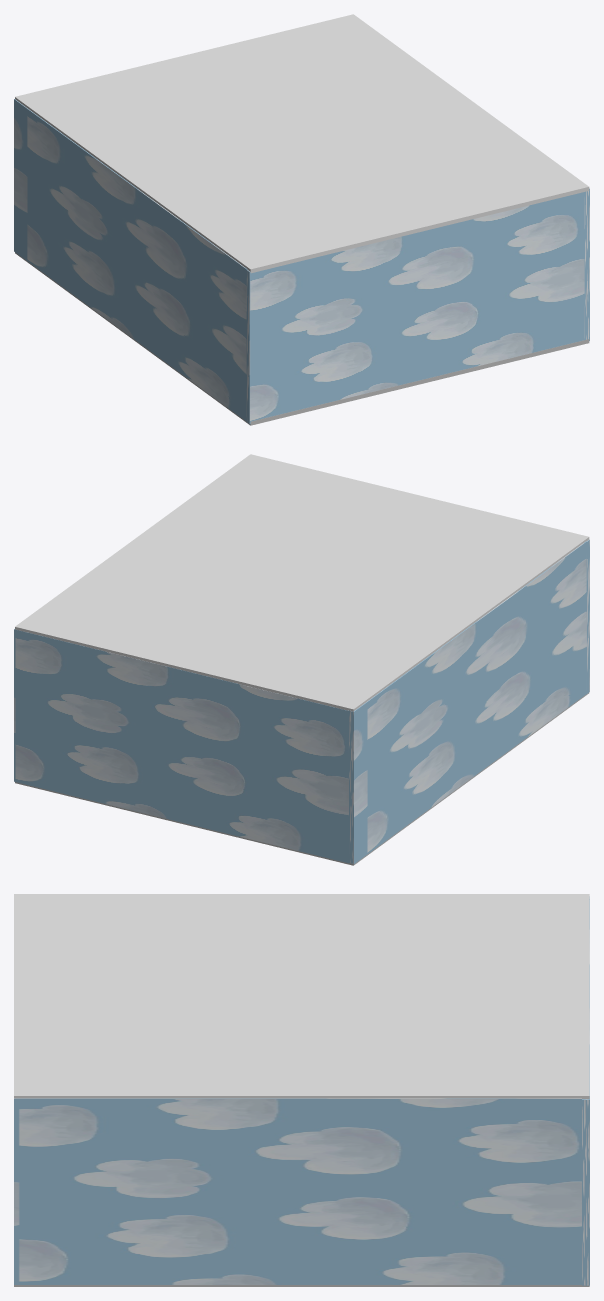
Rendered from duvar tavan taban.fbx.
3 views of the same model, one above another, from view 1: azimuth 30°, elevation 25°; view 2: azimuth 150°, elevation 25°; view 3: azimuth 270°, elevation 25° (orthographic). The views are drawn at different scales.
Visible parts, largest first — view 1: tavan 1, Duvar4, Duvar 1, zemin 1, Duvar 3; view 2: tavan 1, Duvar 2, Duvar 1, zemin 1, Duvar4; view 3: tavan 1, Duvar 3, Duvar 2, zemin 1.
Boxes of the visible parts, x1,y1,x2,y2 form: tavan 1: [15, 14, 589, 273]; Duvar4: [246, 192, 584, 424]; Duvar 1: [14, 99, 247, 421]; zemin 1: [15, 252, 589, 425]; Duvar 3: [584, 188, 589, 340]; tavan 1: [15, 454, 589, 711]; Duvar 2: [14, 629, 348, 863]; Duvar 1: [348, 541, 586, 863]; zemin 1: [15, 693, 588, 865]; Duvar4: [586, 539, 589, 693]; tavan 1: [14, 894, 589, 1098]; Duvar 3: [14, 1098, 581, 1284]; Duvar 2: [582, 900, 589, 1285]; zemin 1: [14, 1285, 589, 1286].
Size of the model in its own units: 1861 by 818 by 2236.
